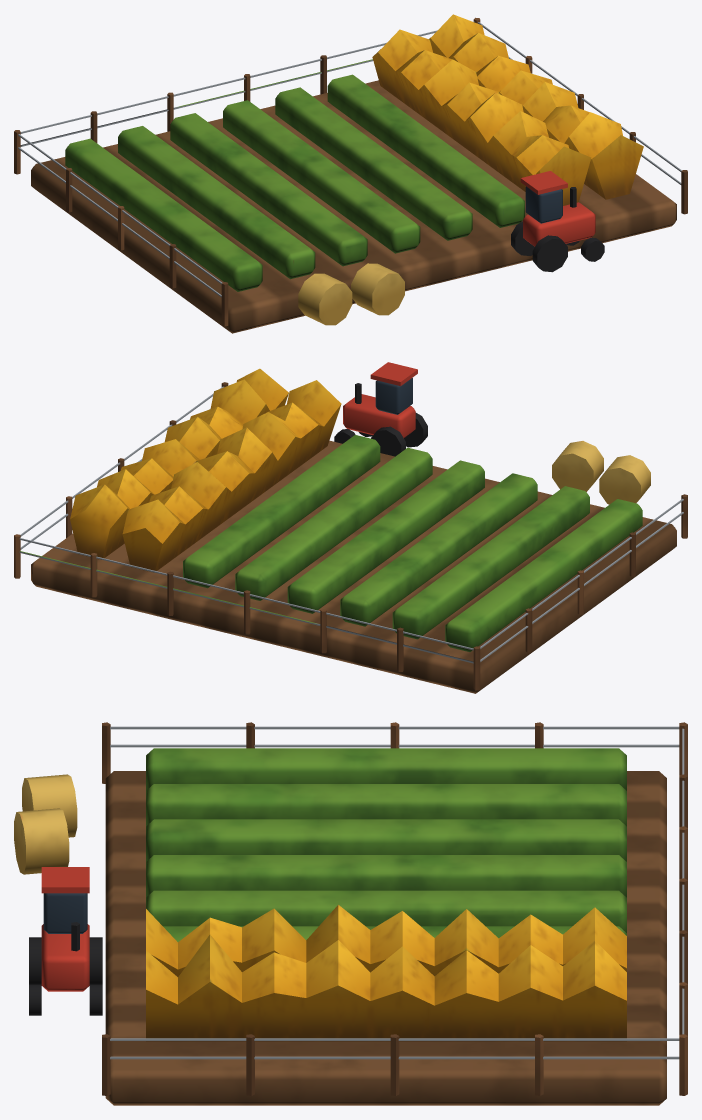
The model's file is crop_field.glb.
3 views of the same model, one above another, from view 1: azimuth 30°, elevation 25°; view 2: azimuth 150°, elevation 25°; view 3: azimuth 270°, elevation 25° (orthographic). The views are drawn at different scales.
Visible parts, largest first — view 1: crop_field; view 2: crop_field; view 3: crop_field.
Part boxes in pixels (box(x1,y1,x2,y2)): crop_field: box(14, 14, 687, 333); crop_field: box(14, 362, 687, 693); crop_field: box(14, 722, 687, 1105).
Size of the model in its own units: 0.9314 by 0.192 by 0.8405.
Materials: 1 (1 with a texture image).
